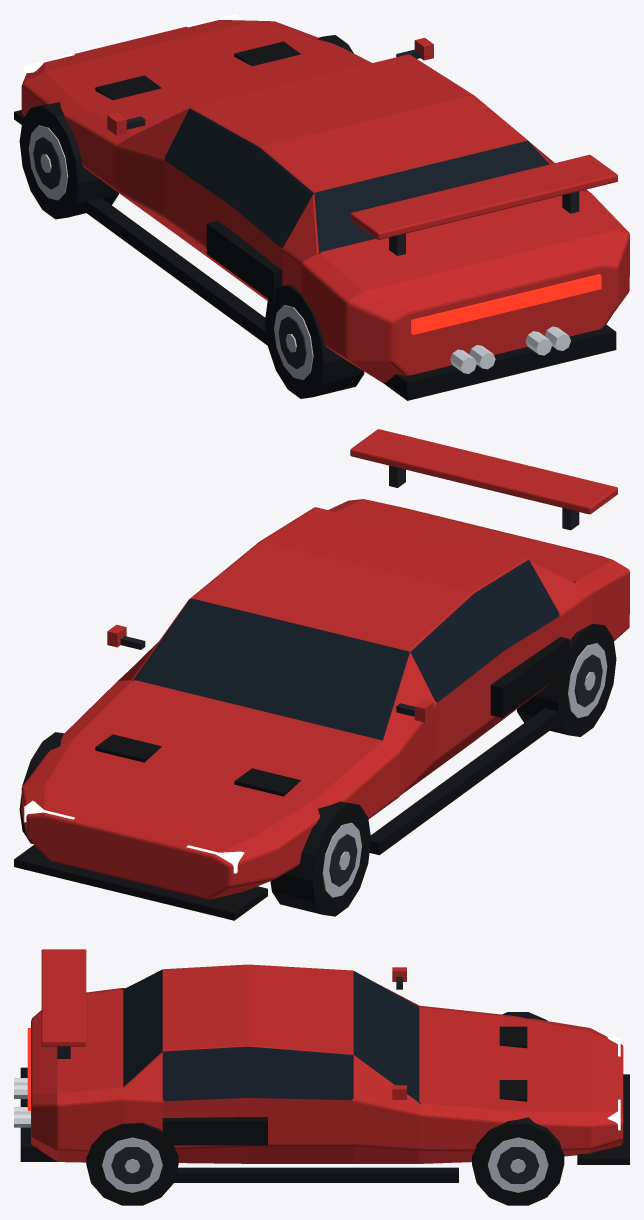
The model's file is car_super.glb.
The picture shows the model from 3 angles, top to bottom: view 1: azimuth 30°, elevation 25°; view 2: azimuth 150°, elevation 25°; view 3: azimuth 270°, elevation 25°; orthographic projection. The views are drawn at different scales.
Visible parts, largest first — view 1: Body, Wheel_FL, Wheel_RL; view 2: Body, Wheel_FL, Wheel_RL, Wheel_FR; view 3: Body, Wheel_FR, Wheel_RR.
Boxes of the visible parts, box(x1,y1,x2,y2) form: Body: box(14, 14, 629, 400); Wheel_FL: box(19, 102, 118, 219); Wheel_RL: box(265, 285, 364, 398); Body: box(14, 429, 629, 920); Wheel_FL: box(270, 801, 370, 916); Wheel_RL: box(517, 623, 616, 736); Wheel_FR: box(19, 732, 63, 843); Body: box(14, 949, 629, 1182); Wheel_FR: box(472, 1117, 564, 1205); Wheel_RR: box(86, 1122, 178, 1205).
Size of the model in its own units: 2.19 by 1.3 by 4.68.
